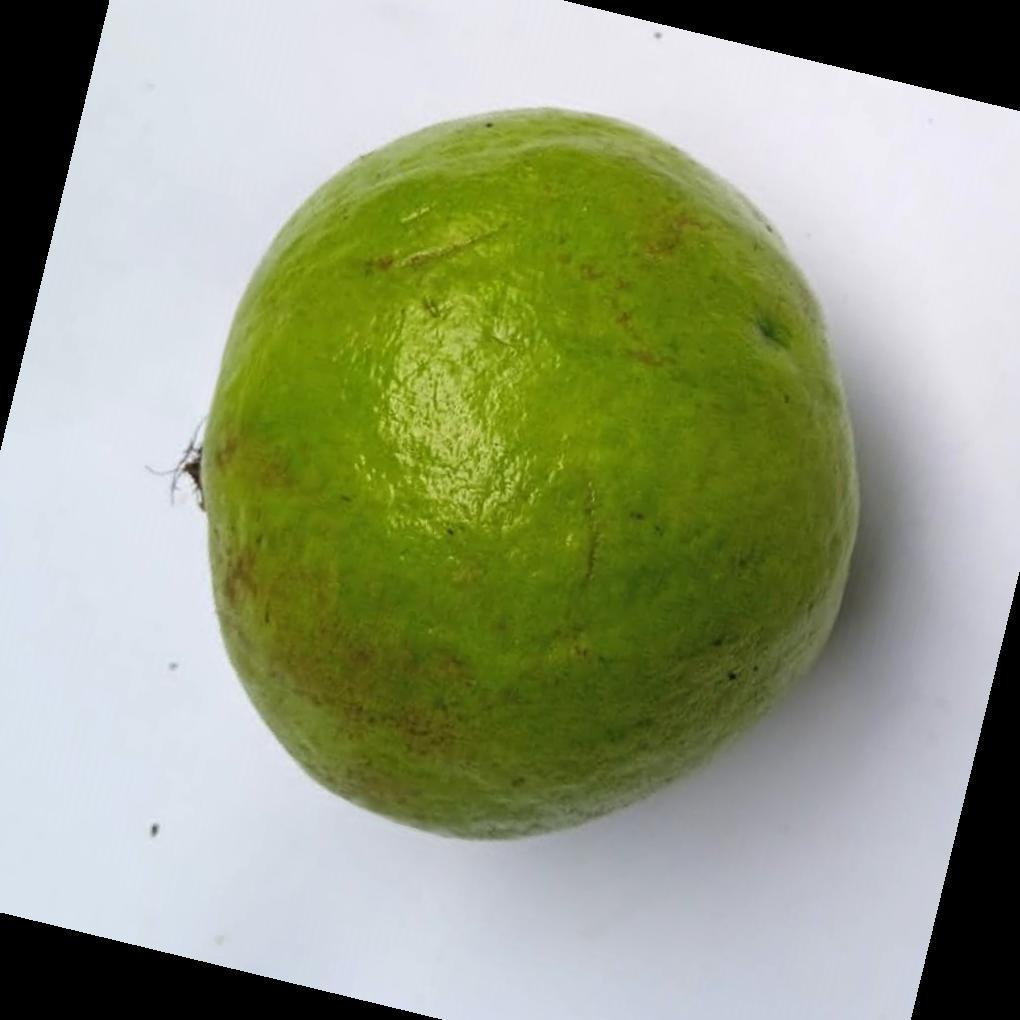FreshGuava: (191, 108, 862, 847)
